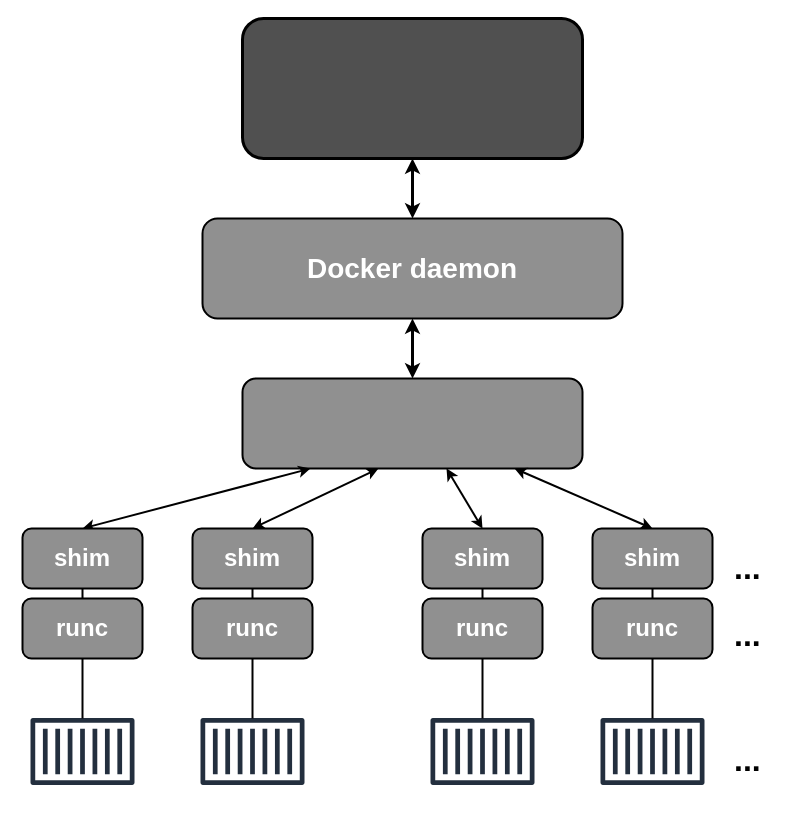
Image size: 810x834. Some labels were removed from this diagram. The box of each missing label's shape, as (x1, y1, x2, y2) in pixels:
containerd: (241, 377, 583, 469)
Docker client >_: (240, 16, 584, 160)
